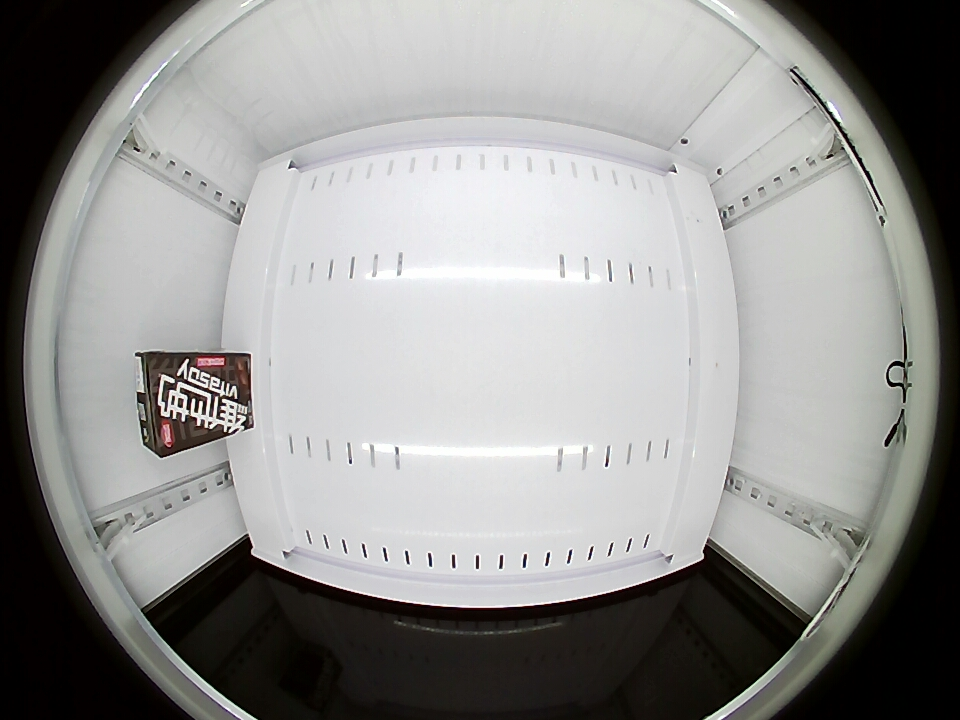weitanai2: (136, 352, 202, 458)
